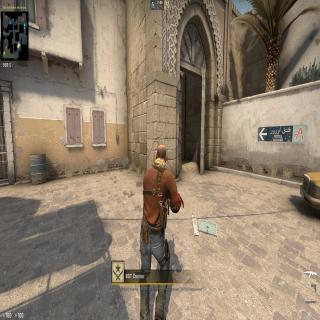T-Head: (156, 143, 168, 165)
